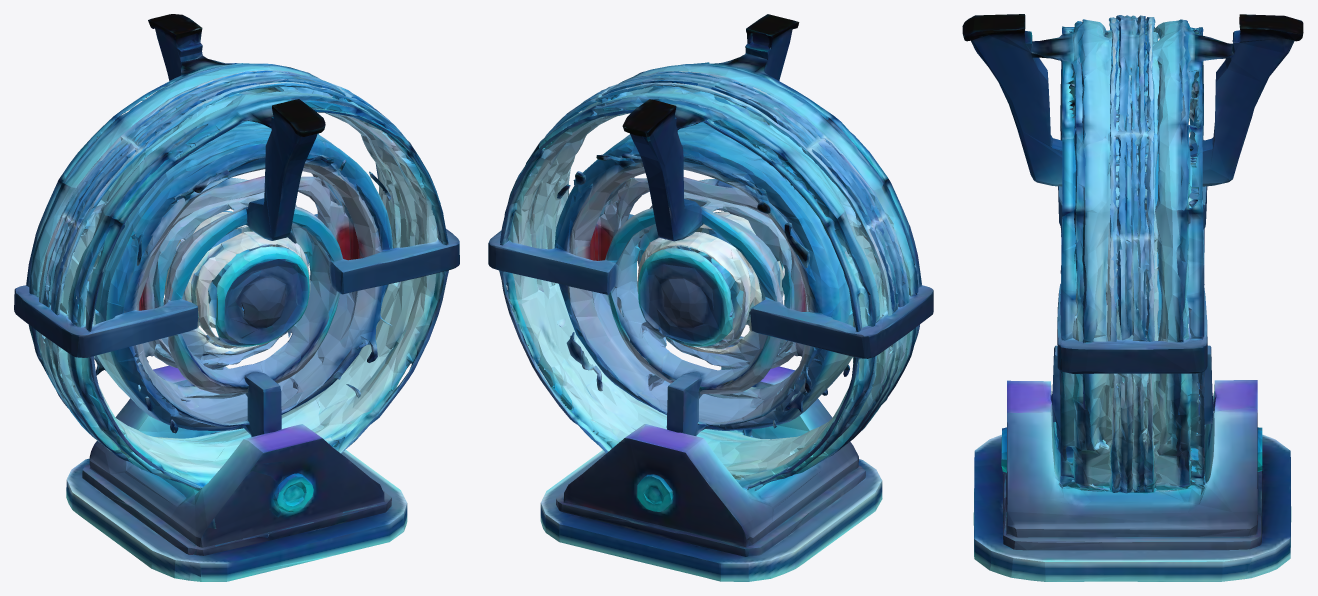
File: prop_training_target.glb
3 renders of one model, left to right at view 1: azimuth 30°, elevation 25°; view 2: azimuth 150°, elevation 25°; view 3: azimuth 270°, elevation 25°, orthographic. The views are drawn at different scales.
Visible parts, largest first — view 1: geometry_0; view 2: geometry_0; view 3: geometry_0.
Part boxes in pixels (left/top/right/bottom): geometry_0: left=14, top=14, right=459, bottom=581; geometry_0: left=488, top=14, right=933, bottom=581; geometry_0: left=962, top=14, right=1303, bottom=581.
Size of the model in its own units: 0.9172 by 0.9948 by 0.6218.
1 material, 1 textured.
